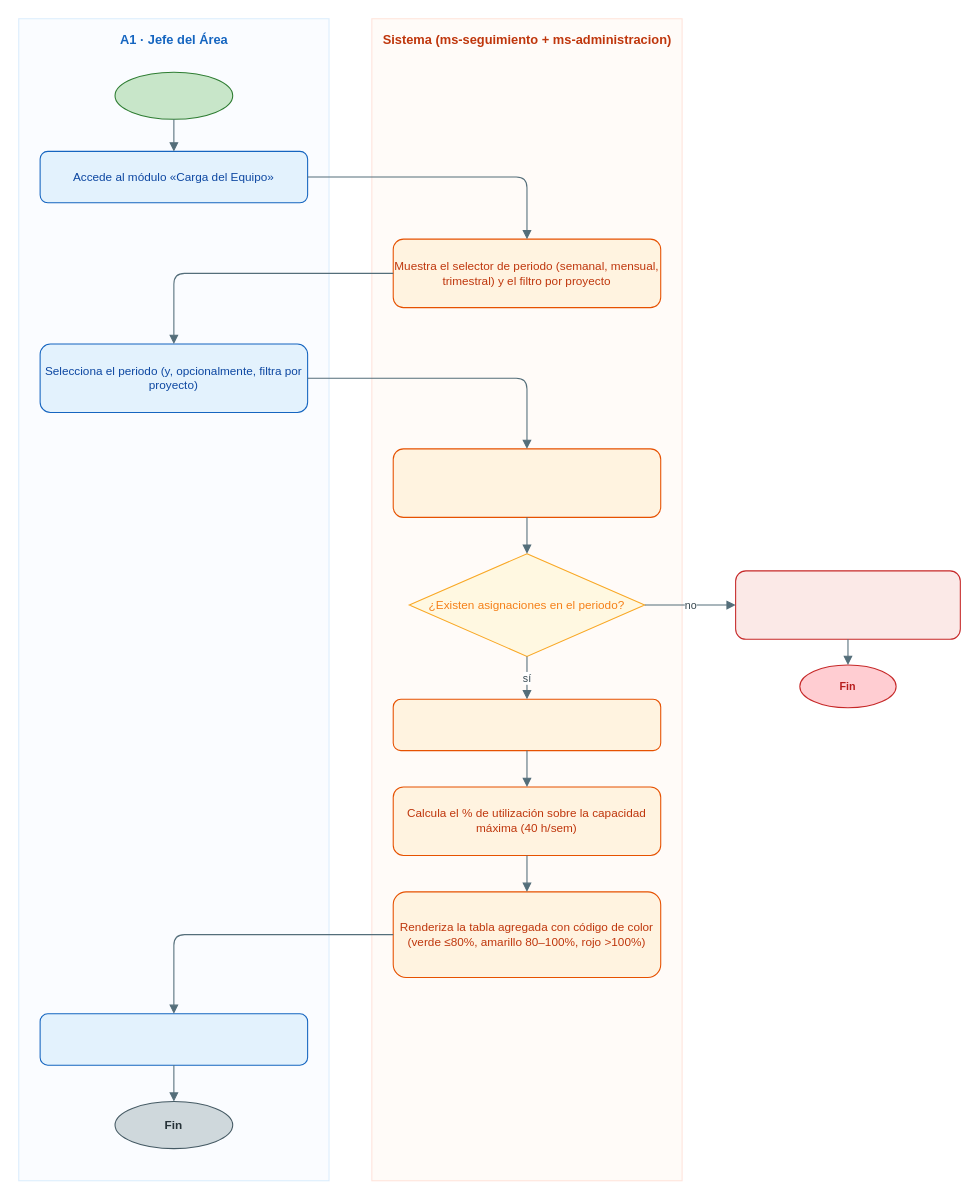
Image size: 979x1199. Some labels were removed from this diagram. The centre of each missing label's shape, as x and y in pixels:
Calcula las horas asignadas por recurso: (x=526, y=724)
Consulta mss_asignacion del periodo y cruza con msa_usuario: (x=526, y=482)
Inicio: (x=173, y=95)
Muestra «Sin asignaciones registradas en el periodo»: (x=847, y=604)
Visualiza la carga agregada del equipo: (x=173, y=1039)
